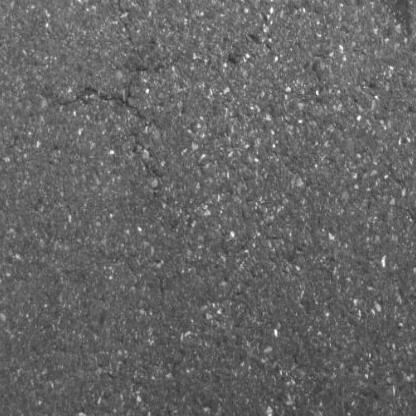Cracks: (55, 0, 155, 126)
